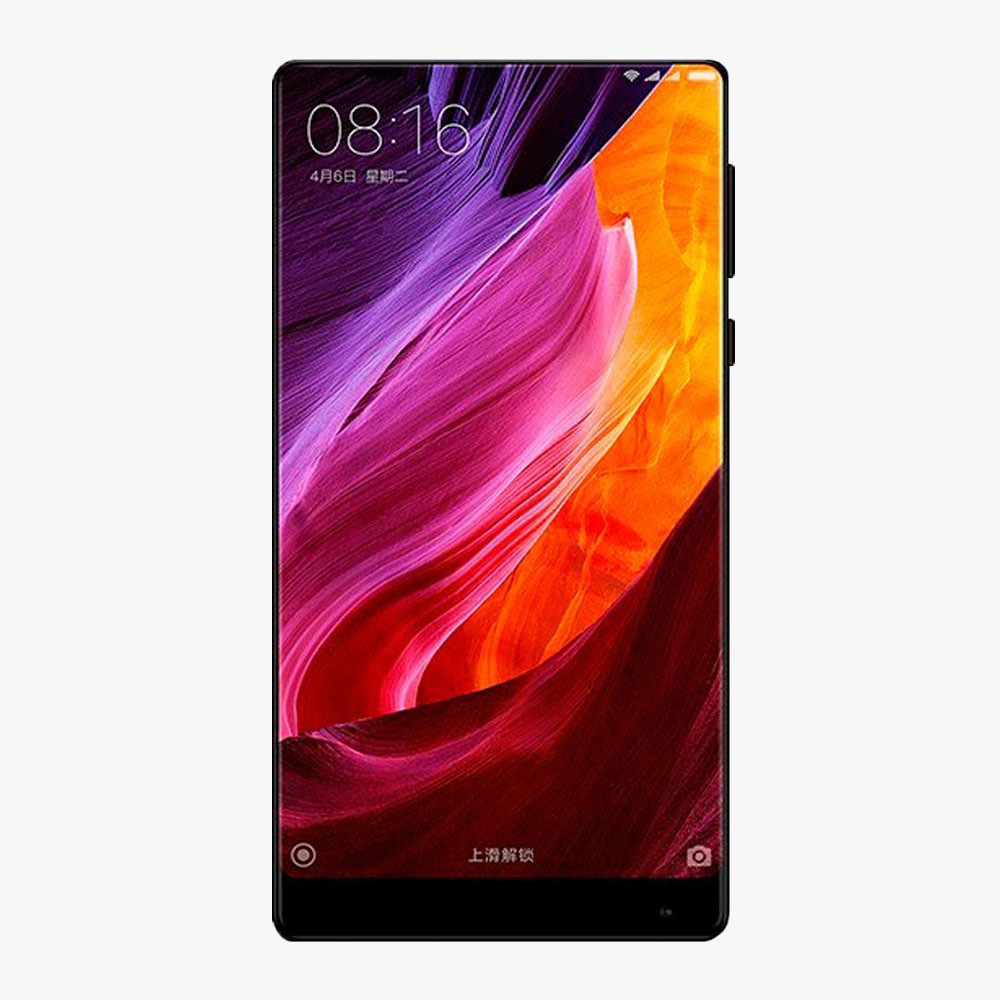smartphone: (271, 59, 735, 941)
